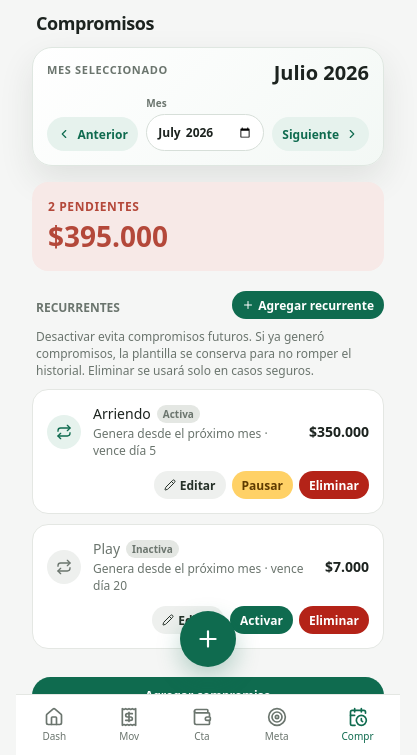
it: CommitmentsPage › confirms, deletes a recurrent template, and refreshes templates
The image size is (417, 755).
Step 1. Click the button with aria-label "Eliminar plantilla Play" → (334, 620), box [299,606,369,634]
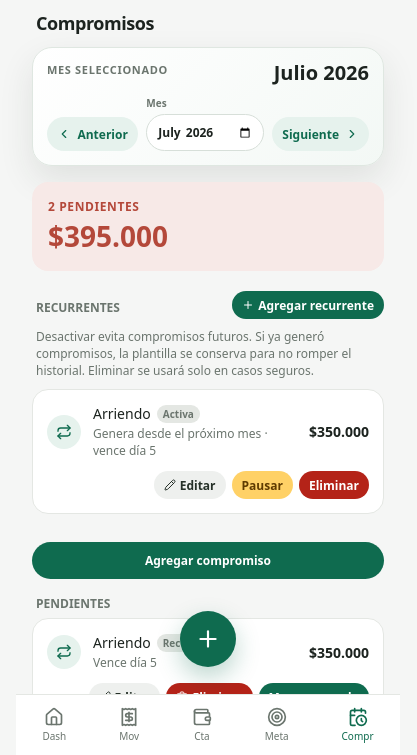
Expected: the button with aria-label "Pausar Arriendo" is shown, [232,471,293,499]
Result: the text "Play" is gone
